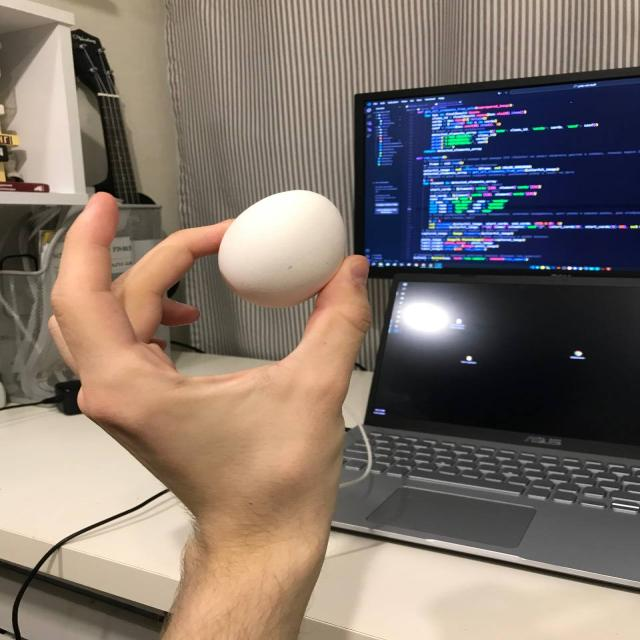egg: (216, 190, 348, 308)
